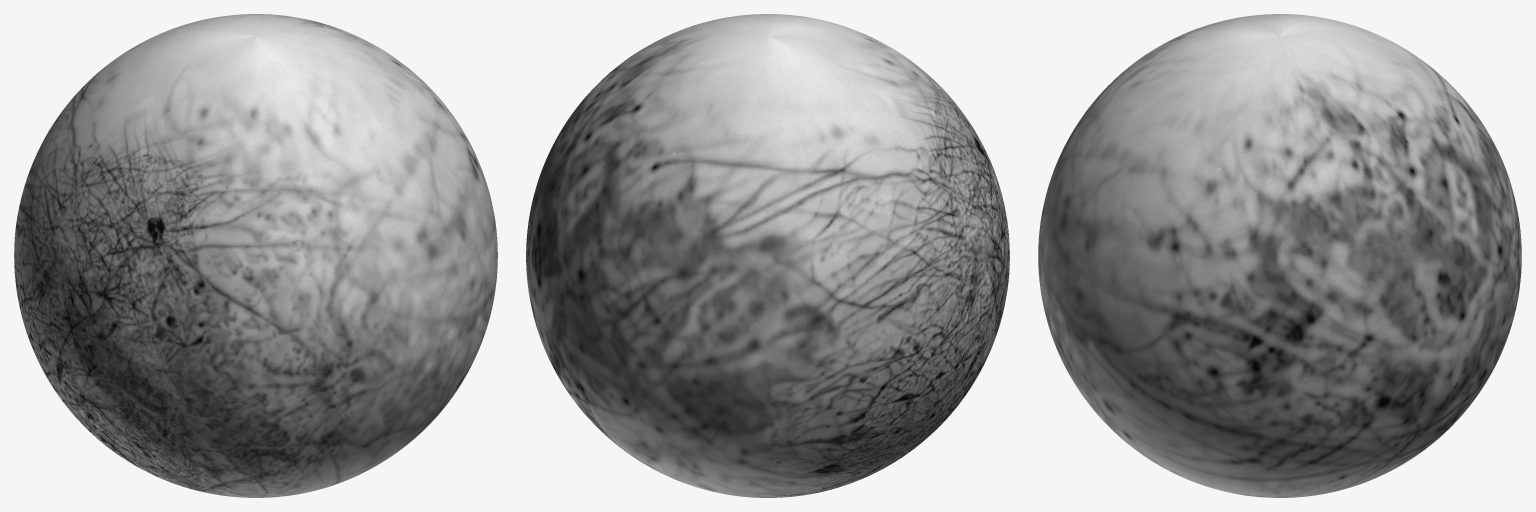
The model's file is europa.glb.
3 views of the same model, side by side, from view 1: azimuth 30°, elevation 25°; view 2: azimuth 150°, elevation 25°; view 3: azimuth 270°, elevation 25° (orthographic).
Parts seen in each view (by area): view 1: Europa_Asset; view 2: Europa_Asset; view 3: Europa_Asset.
Boxes of the visible parts, x1,y1,x2,y2 form: Europa_Asset: [14, 14, 497, 497]; Europa_Asset: [526, 14, 1009, 497]; Europa_Asset: [1038, 14, 1521, 497].
Bounding box in the file's own units: 0.6391 × 0.6401 × 0.6391.
1 material, 1 textured.
